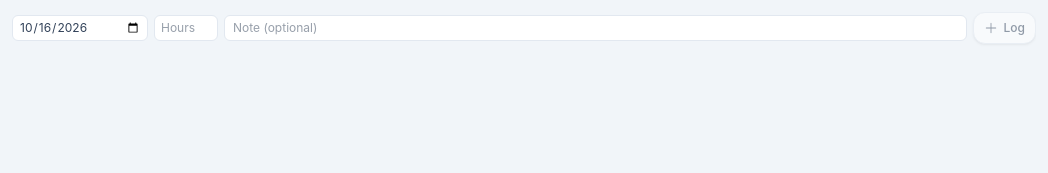
Test: TimeTrackingPanel › adds entries, rejects non-positive hours, and shows the total
Type "0" into the number field named "Hours for new entry" at (186, 28), box [154,15,218,41]
Then press Enter
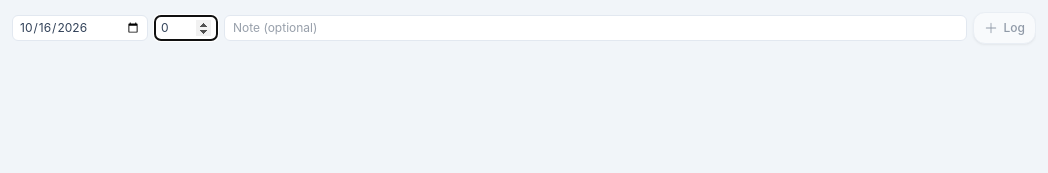
Type "review" into the field named "Note for new entry" at (595, 28), box [224,15,966,41]
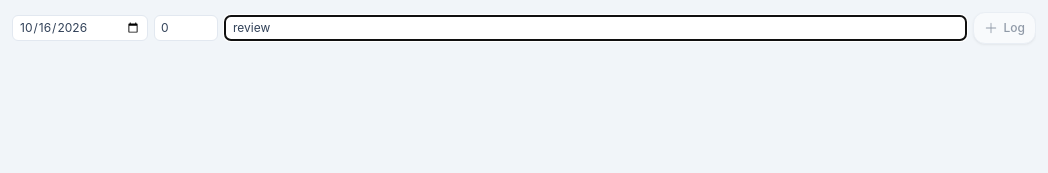
Replace the text in the number field named "Hours for new entry" with "1.5" at (186, 28), box [154,15,218,41]
Then press Enter
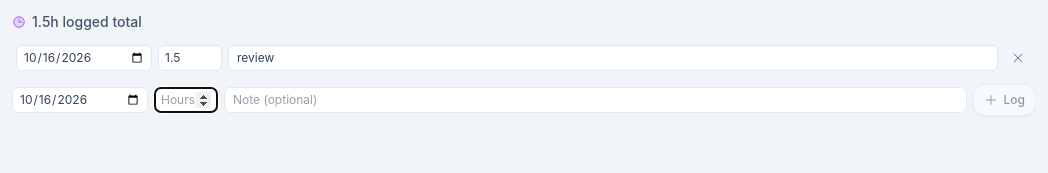
Type "2" into the number field named "Hours for new entry" at (186, 100), box [154,87,218,113]
Then press Enter
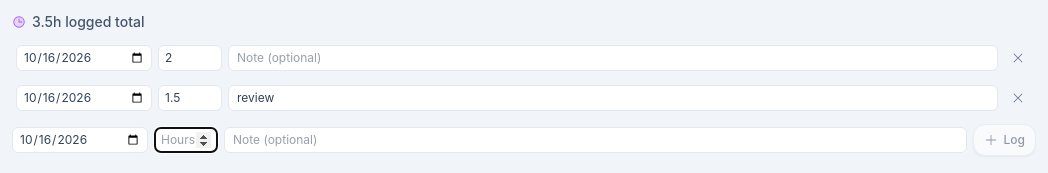
Check: the text "3.5h logged total" is shown, box [12,13,144,30]
